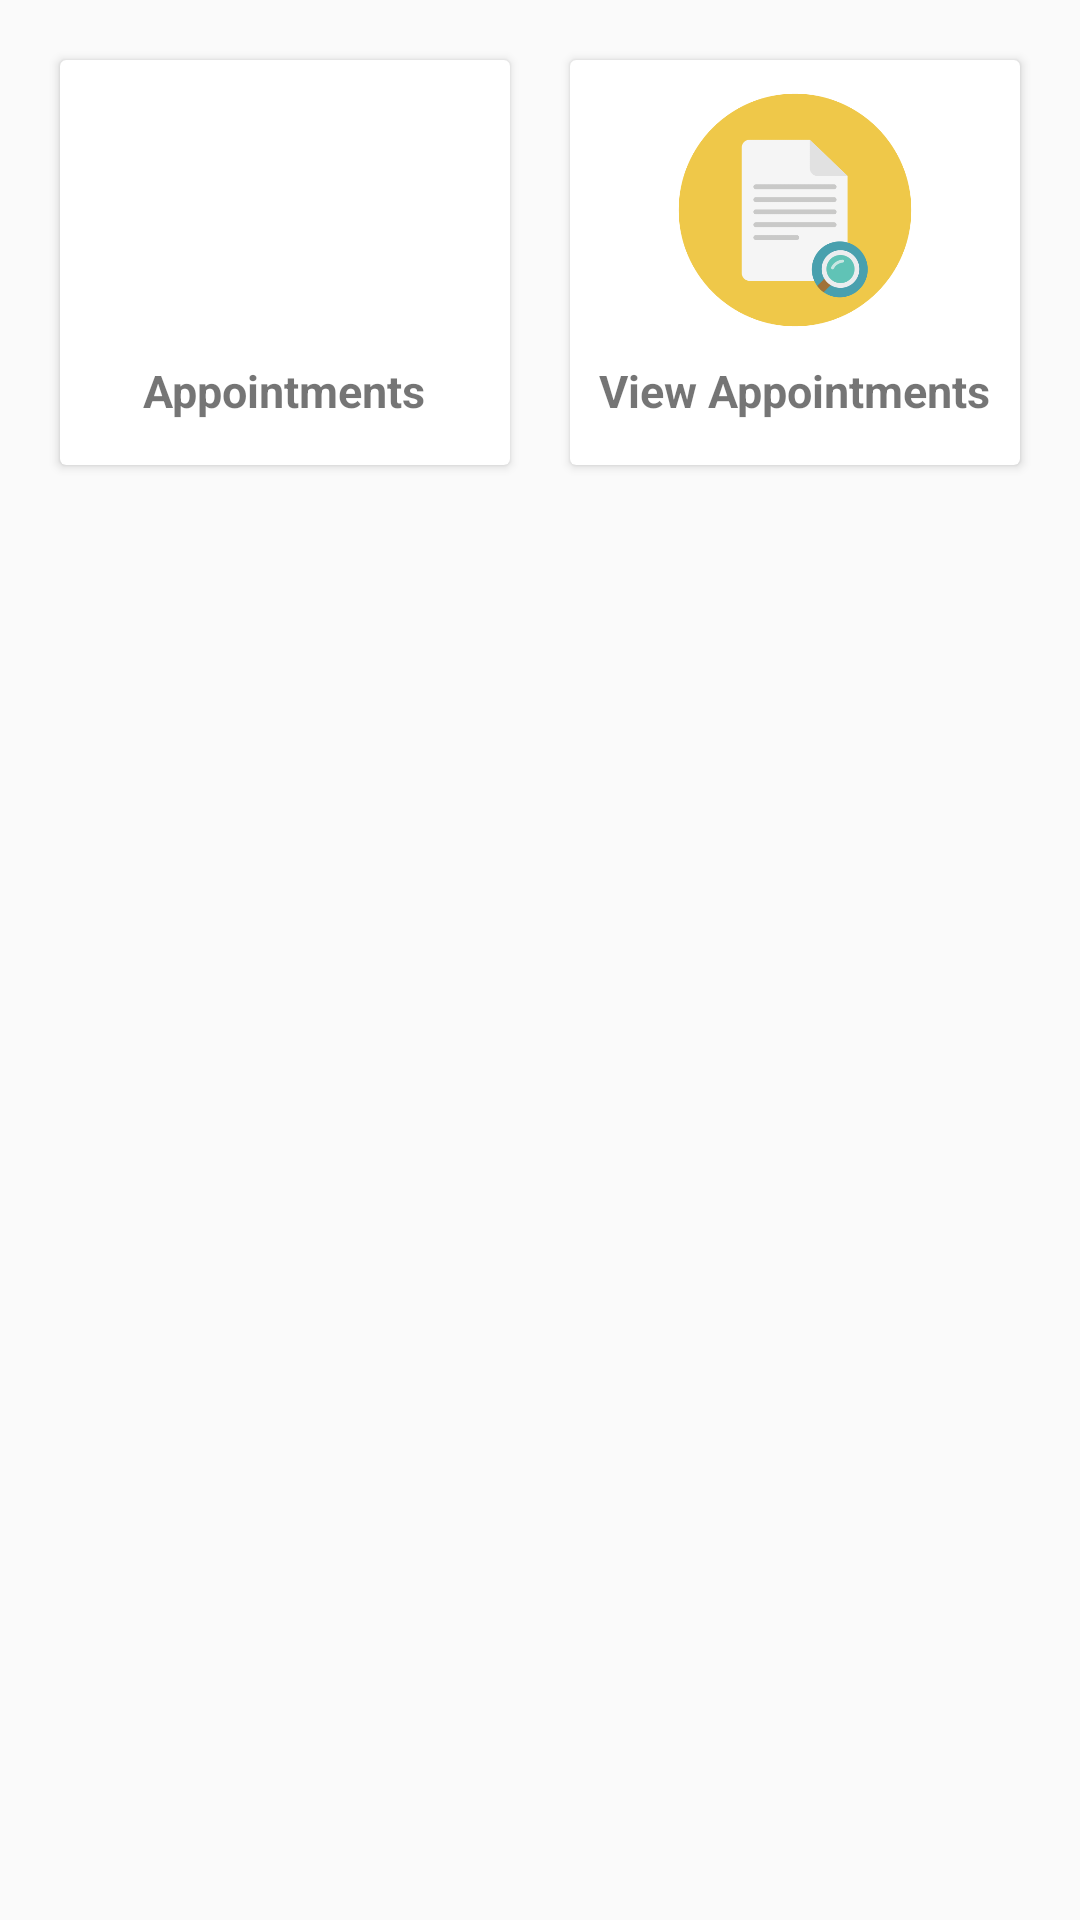

Icons on this 1080px x 1920px Android screen, each with its box as bbox(x1, y1, x2, y2):
view file: bbox(679, 94, 911, 326)
